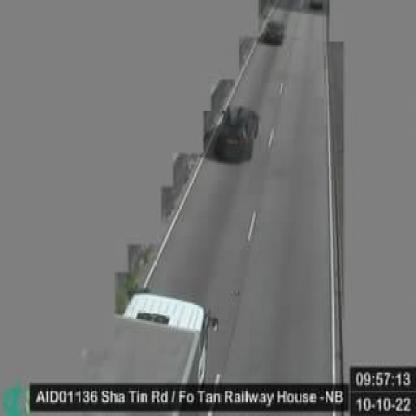Car: (216, 105, 259, 160), (266, 17, 288, 44)
